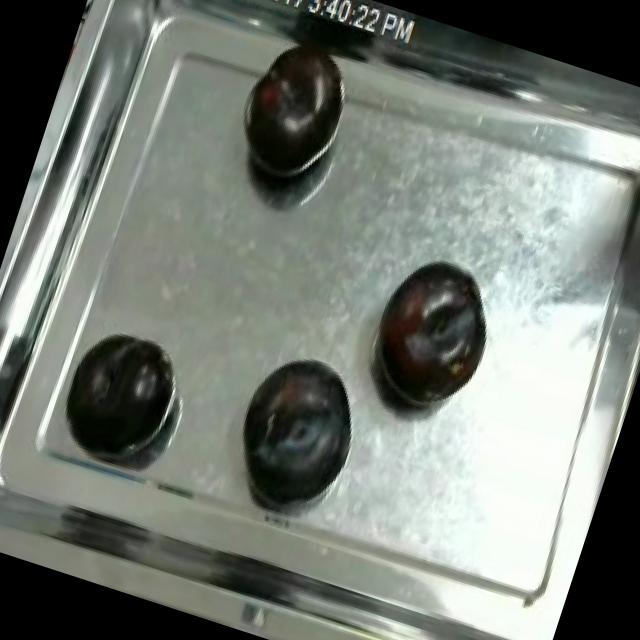Fruit: (352, 242, 511, 428), (216, 343, 374, 521), (222, 29, 362, 202), (50, 316, 186, 472)
